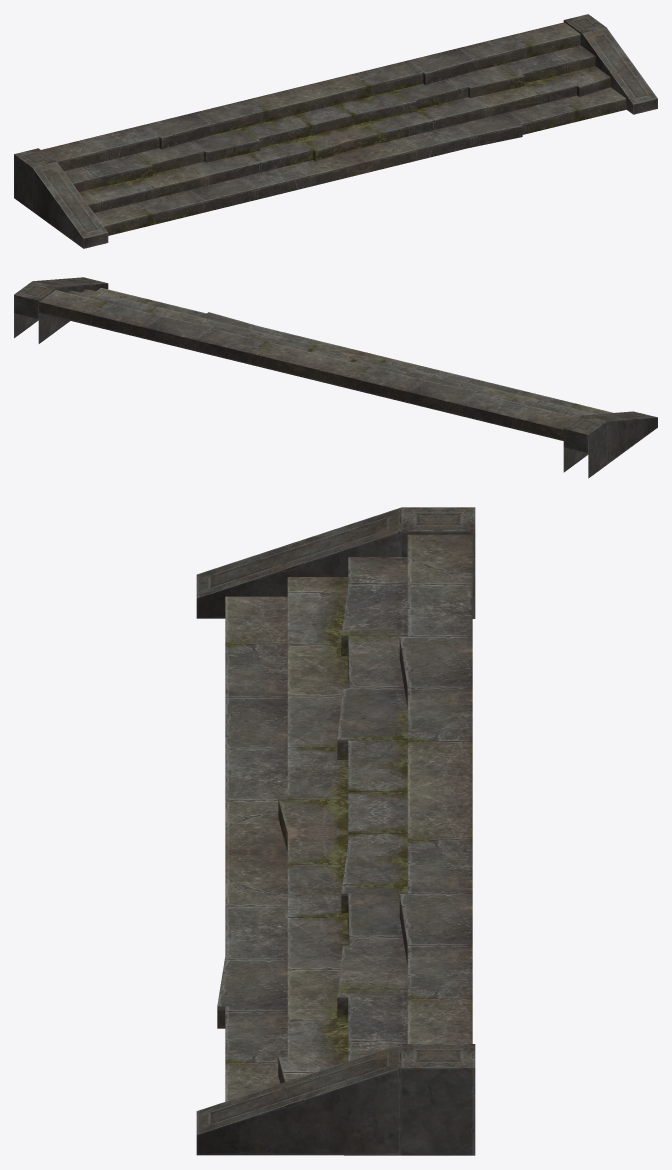
The model's file is b_zx_louti02.FBX.
3 renders of one model, top to bottom at view 1: azimuth 30°, elevation 25°; view 2: azimuth 150°, elevation 25°; view 3: azimuth 270°, elevation 25°, orthographic. The views are drawn at different scales.
Visible parts, largest first — view 1: b_zx_louti02; view 2: b_zx_louti02; view 3: b_zx_louti02.
Boxes of the visible parts, bbox=[...] form: b_zx_louti02: bbox=[14, 14, 657, 248]; b_zx_louti02: bbox=[14, 277, 657, 478]; b_zx_louti02: bbox=[196, 507, 475, 1155].
Bounding box in the file's own units: 14.74 × 1.08 × 3.1.
